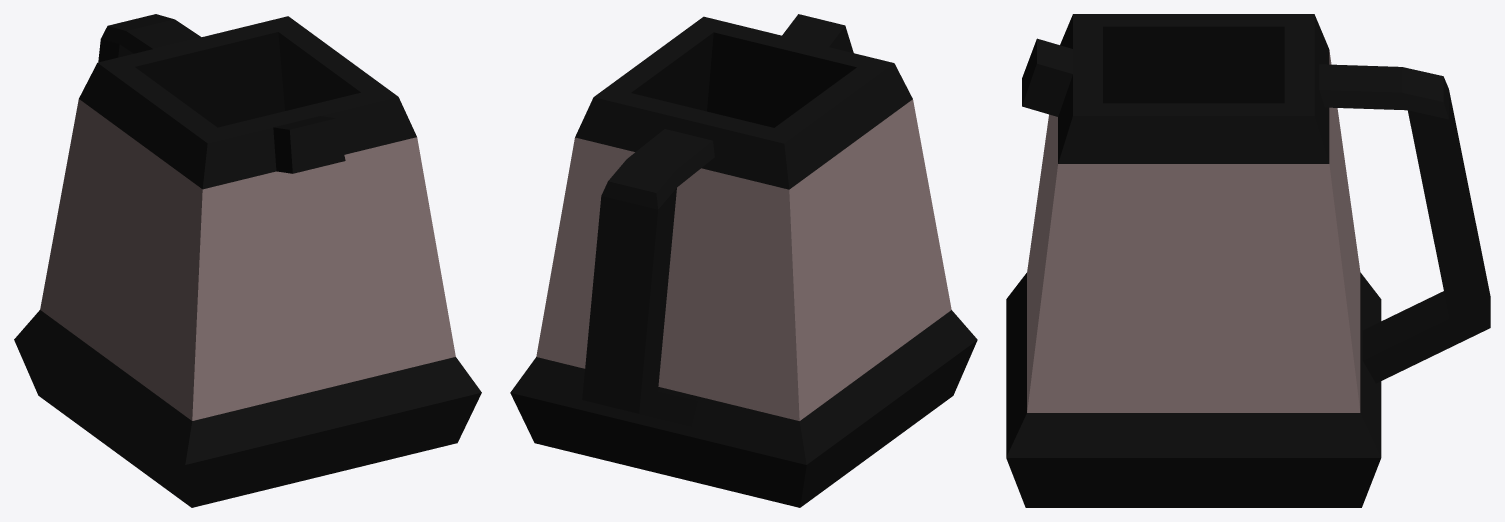
File: CoffeePitcher.fbx
3 views of the same model, side by side, from view 1: azimuth 30°, elevation 25°; view 2: azimuth 150°, elevation 25°; view 3: azimuth 270°, elevation 25° (orthographic). The views are drawn at different scales.
Parts seen in each view (by area): view 1: CoffeePitcher; view 2: CoffeePitcher; view 3: CoffeePitcher.
Part boxes in pixels (x1,y1,x2,y2): CoffeePitcher: (14,14,481,507); CoffeePitcher: (510,14,977,507); CoffeePitcher: (1006,14,1490,507).
Size of the model in its own units: 9.18 by 10.33 by 11.86.
